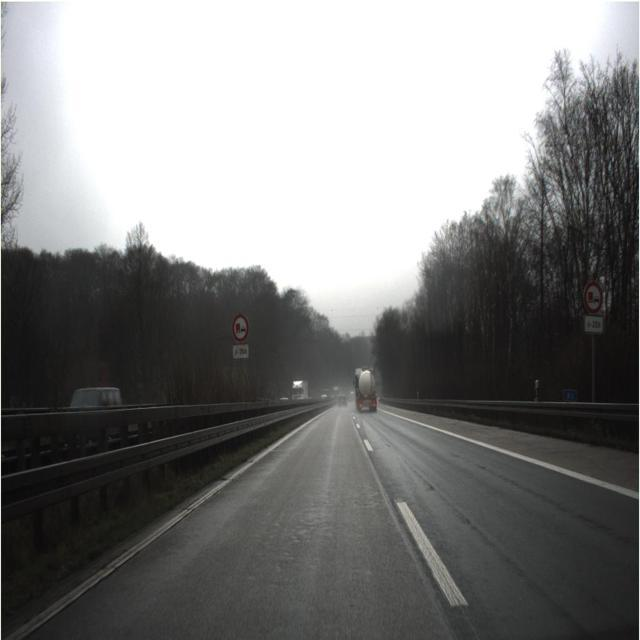forb_overtake_trucks: (583, 279, 604, 315), (231, 312, 249, 343)
